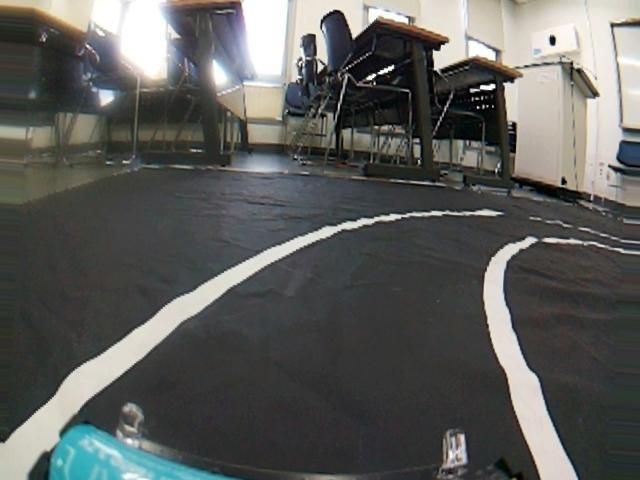right: (3, 199, 627, 476)
